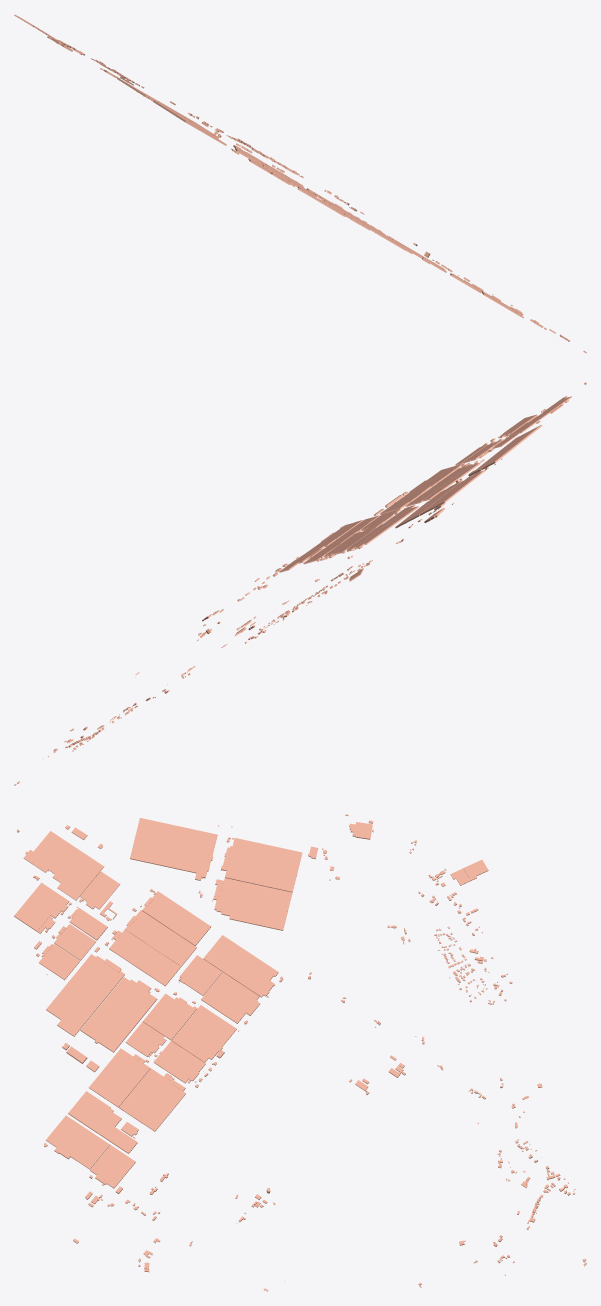
3 renders of one model, top to bottom at view 1: azimuth 30°, elevation 25°; view 2: azimuth 150°, elevation 25°; view 3: azimuth 270°, elevation 25°, orthographic. The views are drawn at different scales.
Size of the model in its own units: 1922 by 1492 by 2580.
